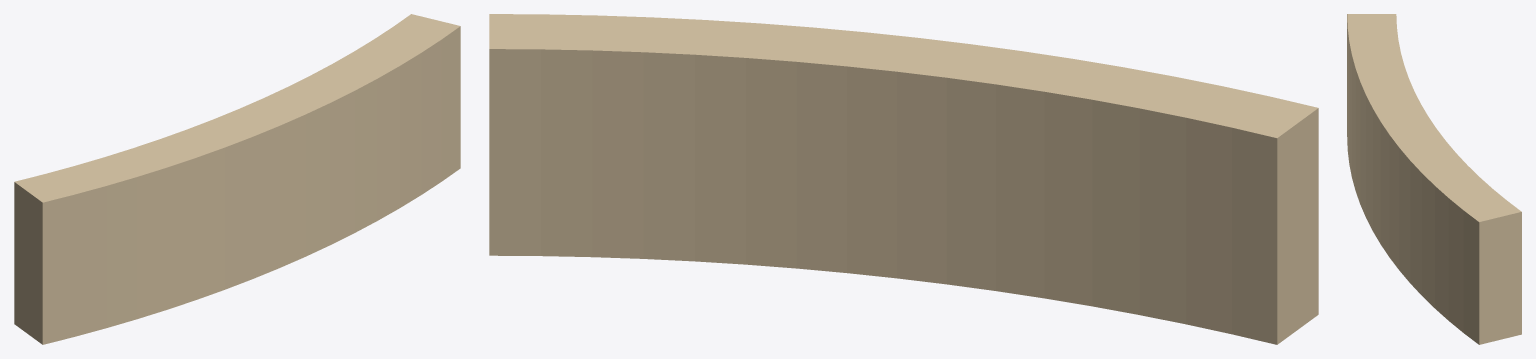
The model's file is ArcParapet_R4_A30.glb.
3 views of the same model, side by side, from view 1: azimuth 30°, elevation 25°; view 2: azimuth 150°, elevation 25°; view 3: azimuth 270°, elevation 25° (orthographic). The views are drawn at different scales.
Visible parts, largest first — view 1: PBK_Parapet.014; view 2: PBK_Parapet.014; view 3: PBK_Parapet.014.
Boxes of the visible parts, bbox=[...] form: PBK_Parapet.014: bbox=[14, 14, 460, 344]; PBK_Parapet.014: bbox=[489, 14, 1318, 344]; PBK_Parapet.014: bbox=[1347, 14, 1521, 344].
Size of the model in its own units: 2 by 0.55 by 0.7091.
